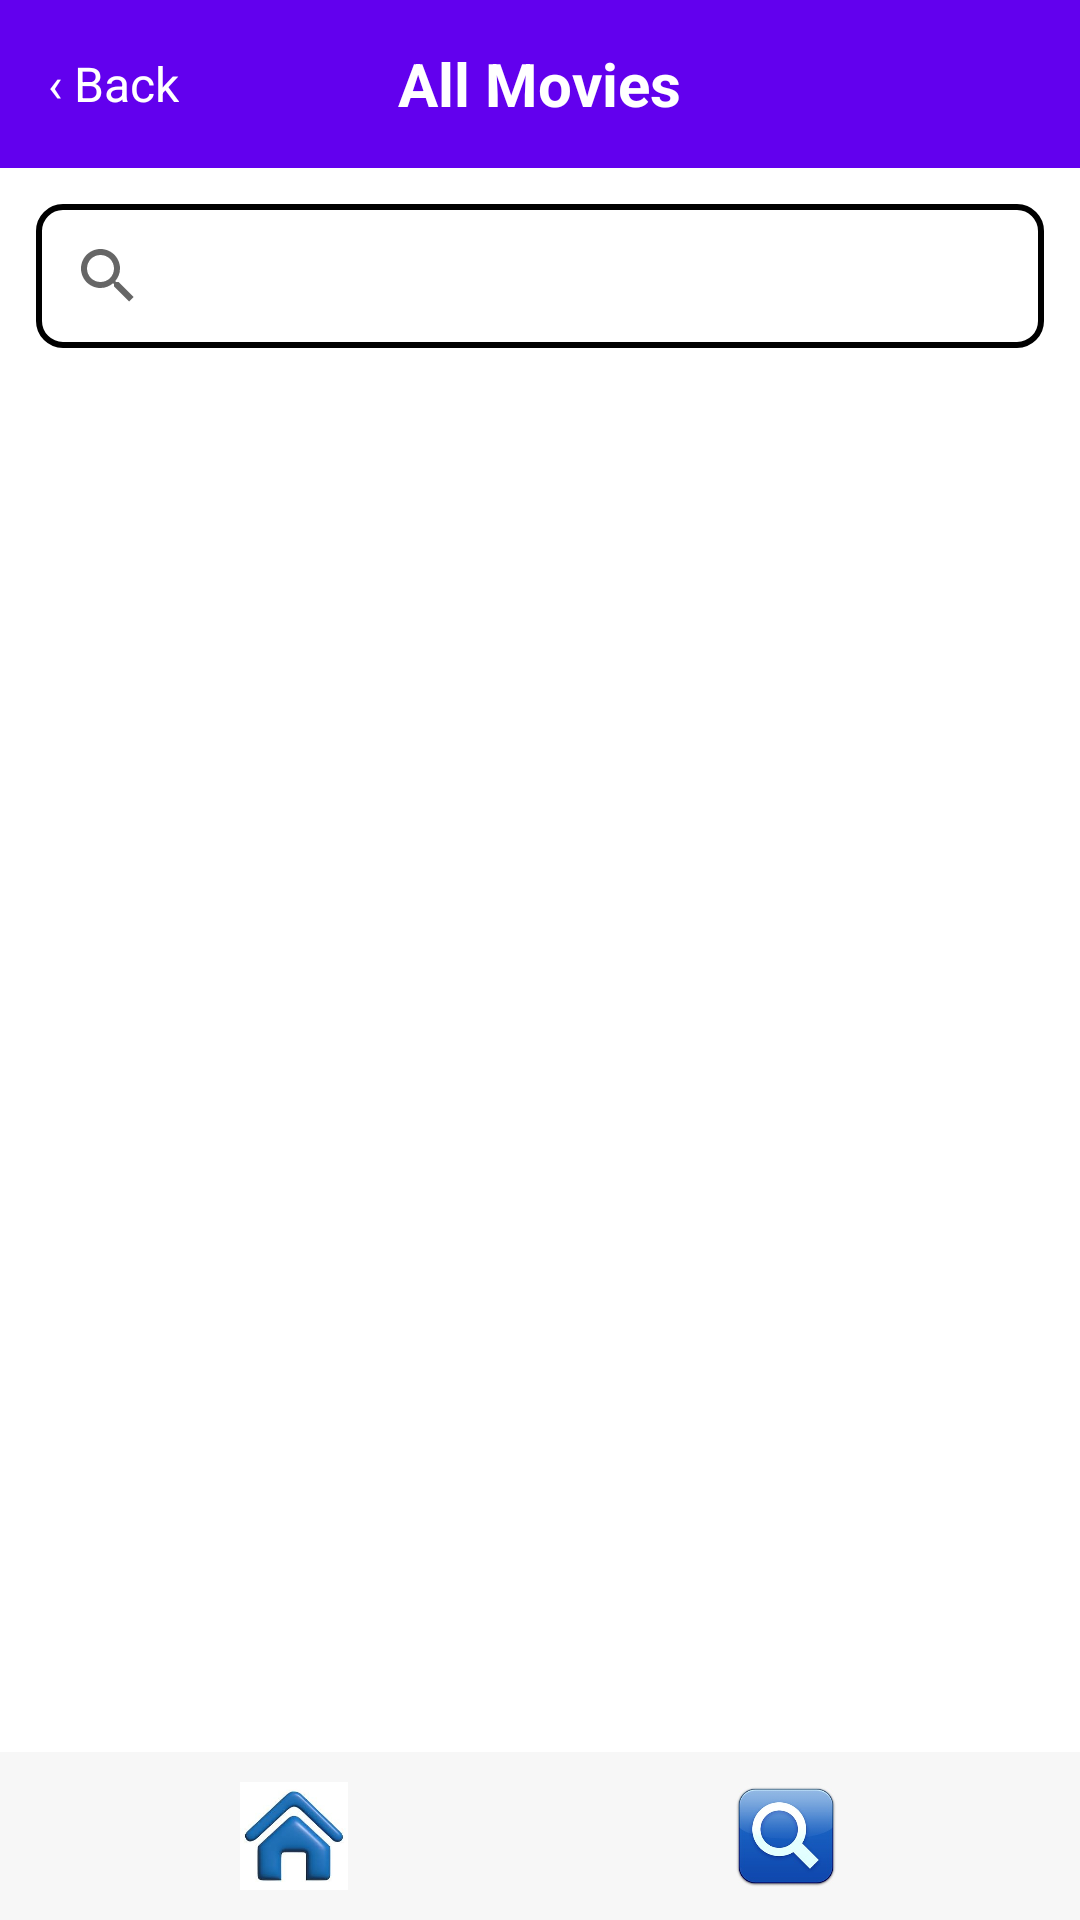

Icons on this 1080px×1920px Android screen, each with its box as (x1, y1, x2, y2):
Home: (245, 1791, 343, 1881)
Search: (737, 1788, 835, 1885)
